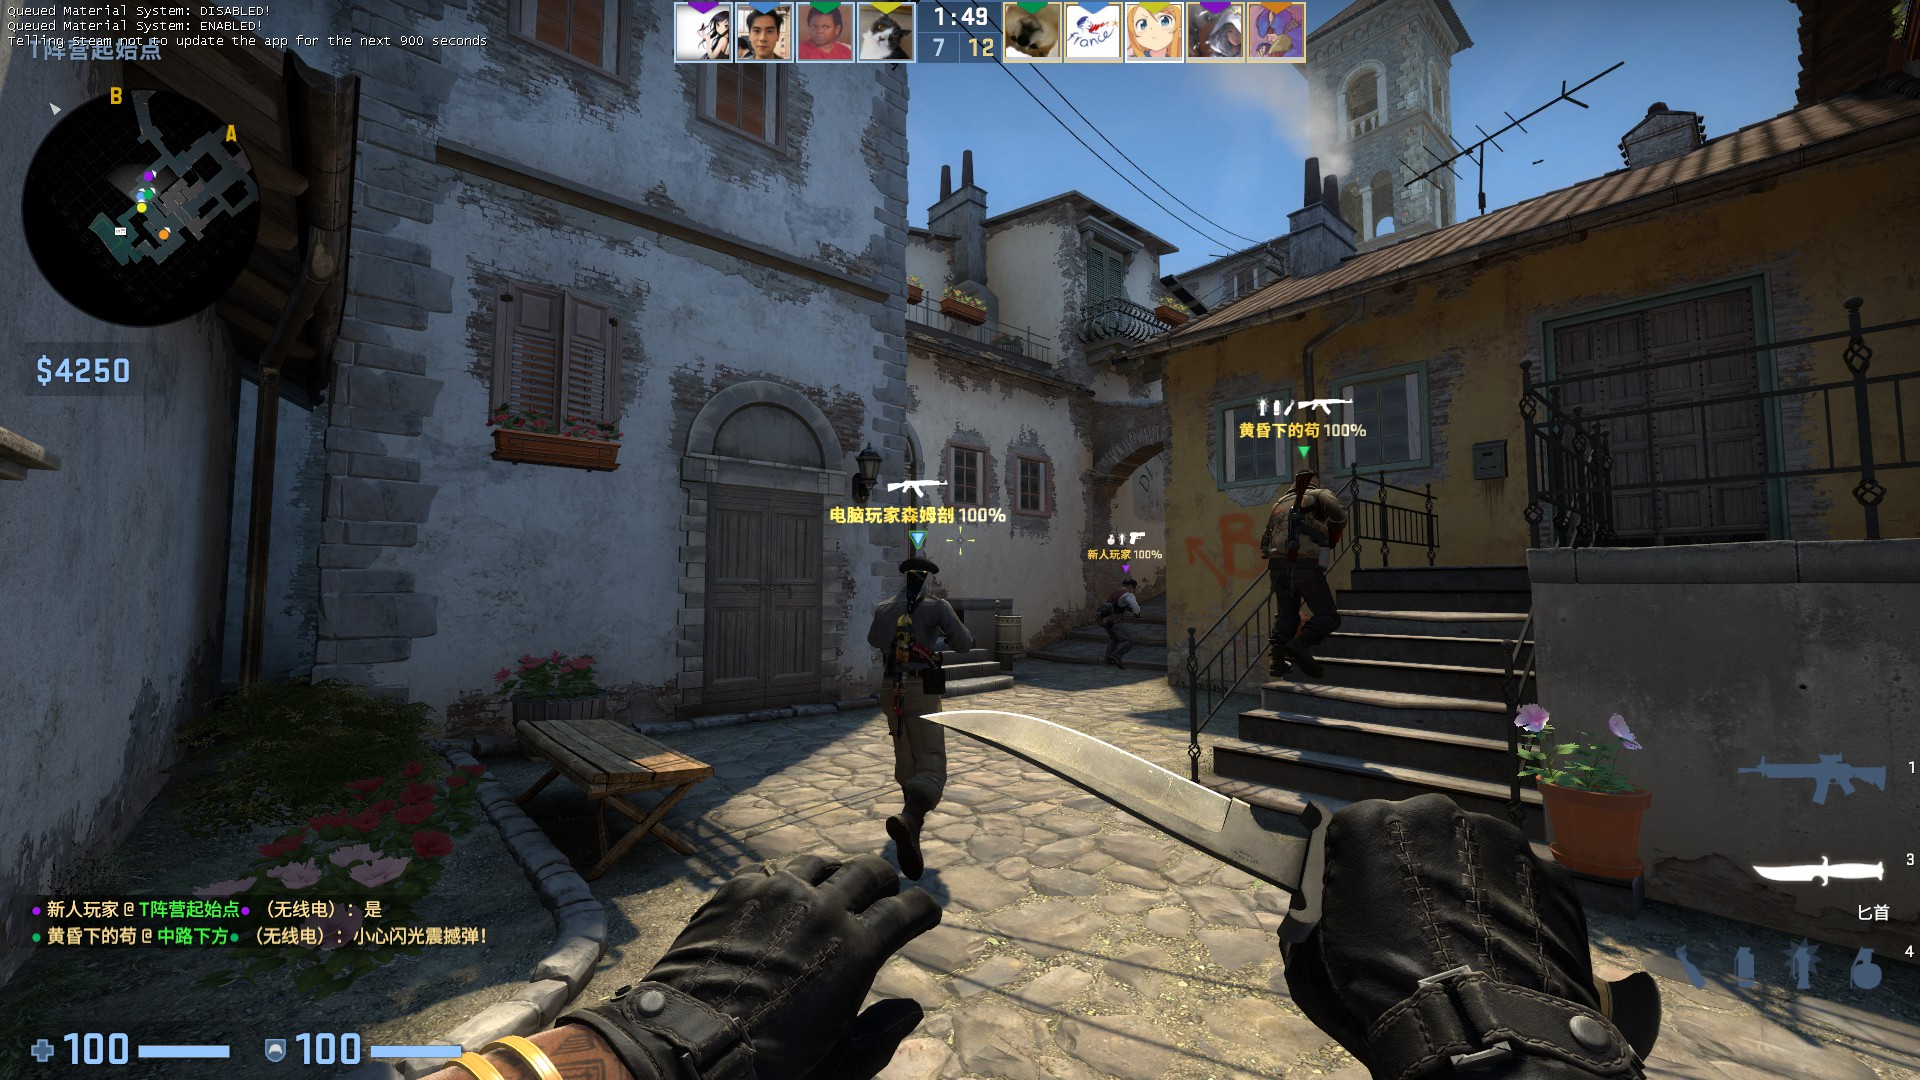head: (898, 554, 938, 596), (1288, 466, 1322, 491), (1119, 575, 1139, 592)
